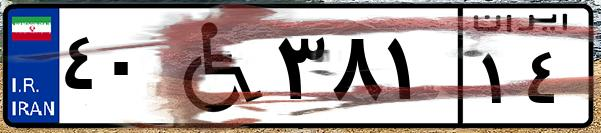0: (110, 28, 158, 98)
1: (385, 28, 445, 110), (475, 38, 525, 113)
3: (270, 28, 330, 110)
4: (57, 26, 110, 100), (525, 38, 570, 115)
8: (330, 28, 385, 110)
ژ (معلولین و جانبازان): (158, 12, 270, 120)
